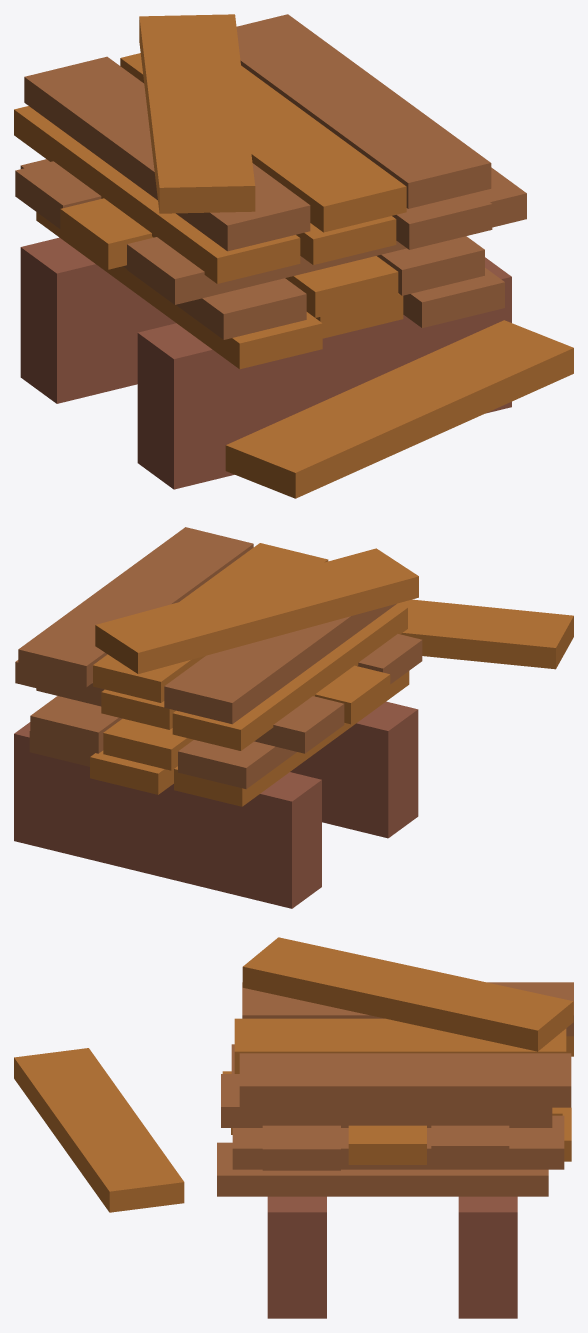
The model's file is wood1.fbx.
The picture shows the model from 3 angles, top to bottom: view 1: azimuth 30°, elevation 25°; view 2: azimuth 150°, elevation 25°; view 3: azimuth 270°, elevation 25°; orthographic projection. The views are drawn at different scales.
Visible parts, largest first — view 1: wood1; view 2: wood1; view 3: wood1.
Boxes of the visible parts, x1,y1,x2,y2 form: wood1: (14, 14, 573, 498); wood1: (14, 527, 573, 908); wood1: (14, 937, 573, 1318).
Bounding box in the file's own units: 129 × 90.51 × 188.
